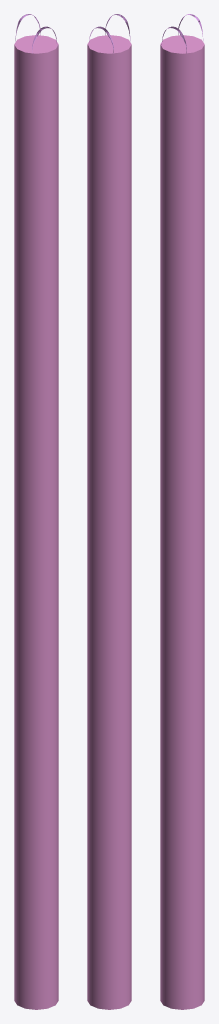
Rendered from refine_cylinder_2.obj.
The picture shows the model from 3 angles, left to right: view 1: azimuth 30°, elevation 25°; view 2: azimuth 150°, elevation 25°; view 3: azimuth 330°, elevation 25°; orthographic projection.
Parts seen in each view (by area): view 1: Cylinder002, 332009_DC_Shell; view 2: Cylinder002, 332009_DC_Shell; view 3: Cylinder002, 332009_DC_Shell.
Part boxes in pixels (x1,y1,x2,y2): Cylinder002: (14,35,58,1009); 332009_DC_Shell: (15,14,57,53); Cylinder002: (87,35,131,1009); 332009_DC_Shell: (88,14,130,53); Cylinder002: (160,35,204,1009); 332009_DC_Shell: (161,14,203,52).
Bounding box in the file's own units: 0.3322 × 8.07 × 0.3322.
